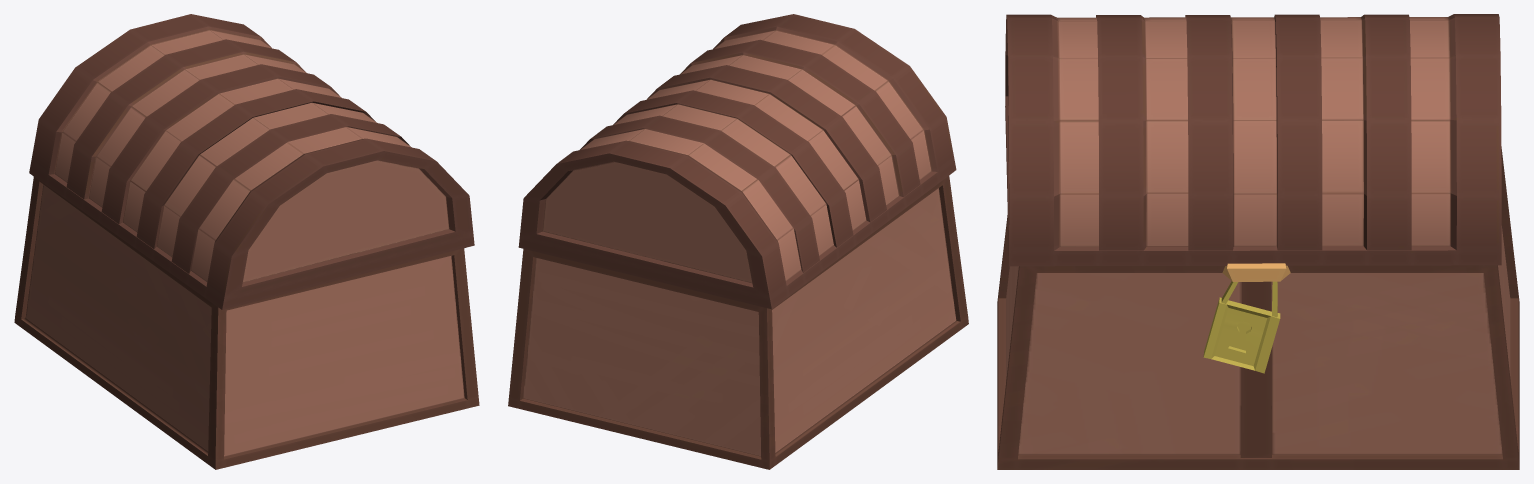
File: box_assets_4.fbx
The picture shows the model from 3 angles, left to right: view 1: azimuth 30°, elevation 25°; view 2: azimuth 150°, elevation 25°; view 3: azimuth 270°, elevation 25°; orthographic projection. The views are drawn at different scales.
Parts seen in each view (by area): view 1: lid, box; view 2: lid, box; view 3: lid, box, lock.
Boxes of the visible parts, x1,y1,x2,y2 form: lid: [29, 14, 474, 309]; box: [14, 176, 479, 469]; lid: [518, 14, 956, 309]; box: [508, 176, 968, 469]; lid: [1005, 14, 1501, 266]; box: [997, 146, 1519, 469]; lock: [1203, 281, 1280, 373].
Size of the model in its own units: 78.57 by 75.08 by 100.
Materials: 3 (2 with a texture image).
